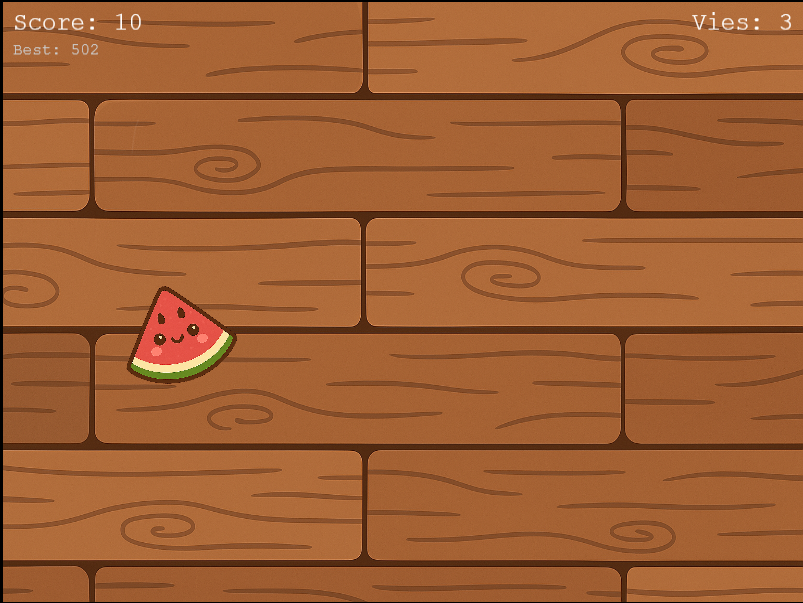fruit: (123, 282, 240, 388)
